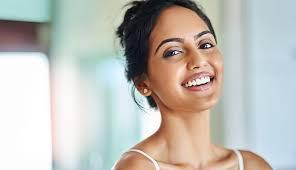Normal-Skin: (149, 24, 226, 102)
